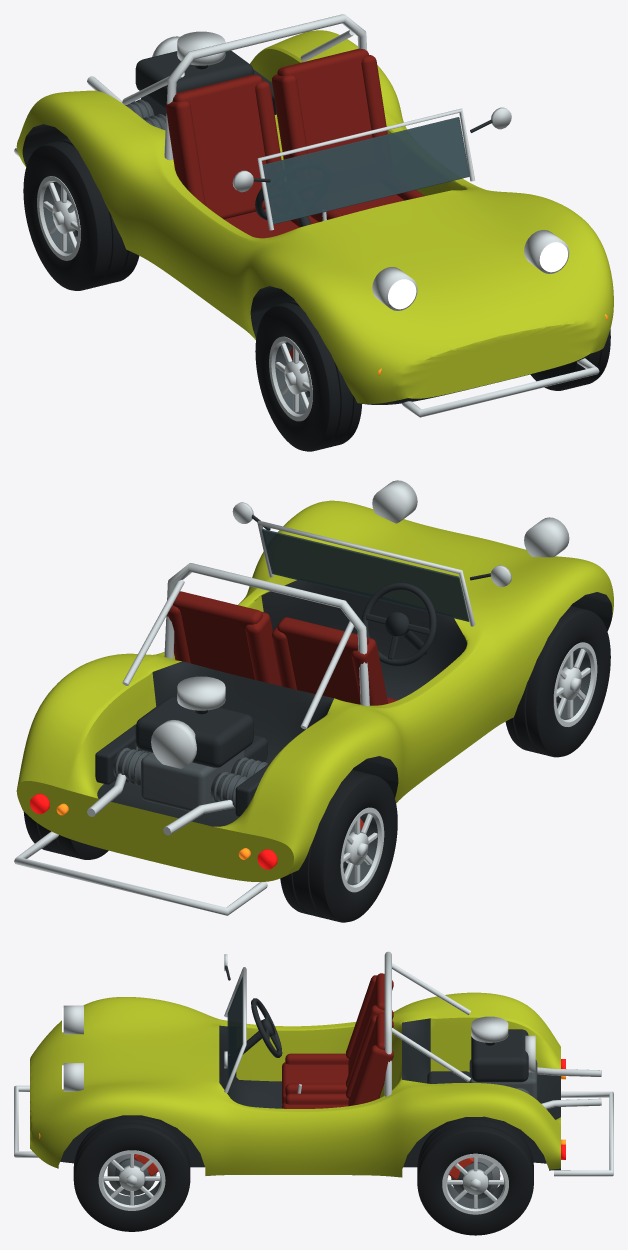
The model's file is sandpiper.glb.
3 views of the same model, one above another, from view 1: azimuth 30°, elevation 25°; view 2: azimuth 150°, elevation 25°; view 3: azimuth 270°, elevation 25° (orthographic). The views are drawn at different scales.
Parts seen in each view (by area): view 1: BodyStatic, InteriorAssembly, GlassPanels, WheelRearLGeometry, WheelFrontLGeometry, WheelFrontRGeometry; view 2: BodyStatic, InteriorAssembly, WheelRearLGeometry, WheelFrontLGeometry, GlassPanels, WheelRearRGeometry; view 3: BodyStatic, WheelRearRGeometry, WheelFrontRGeometry, InteriorAssembly, GlassPanels.
Part boxes in pixels (left/top/right/bottom): BodyStatic: left=14, top=14, right=613, bottom=417; InteriorAssembly: left=165, top=48, right=424, bottom=238; GlassPanels: left=262, top=117, right=469, bottom=224; WheelRearLGeometry: left=23, top=138, right=139, bottom=290; WheelFrontLGeometry: left=255, top=300, right=361, bottom=451; WheelFrontRGeometry: left=530, top=329, right=610, bottom=390; BodyStatic: left=14, top=480, right=613, bottom=915; InteriorAssembly: left=167, top=582, right=436, bottom=705; WheelRearLGeometry: left=280, top=769, right=397, bottom=922; WheelFrontLGeometry: left=505, top=606, right=610, bottom=757; GlassPanels: left=262, top=529, right=469, bottom=621; WheelRearRGeometry: left=23, top=811, right=108, bottom=859; BodyStatic: left=14, top=951, right=613, bottom=1179; WheelRearRGeometry: left=417, top=1116, right=533, bottom=1235; WheelFrontRGeometry: left=73, top=1115, right=190, bottom=1231; InteriorAssembly: left=243, top=973, right=393, bottom=1108; GlassPanels: left=227, top=977, right=242, bottom=1081.
Bounding box in the file's own units: 1.63 × 1.3 × 3.55.
